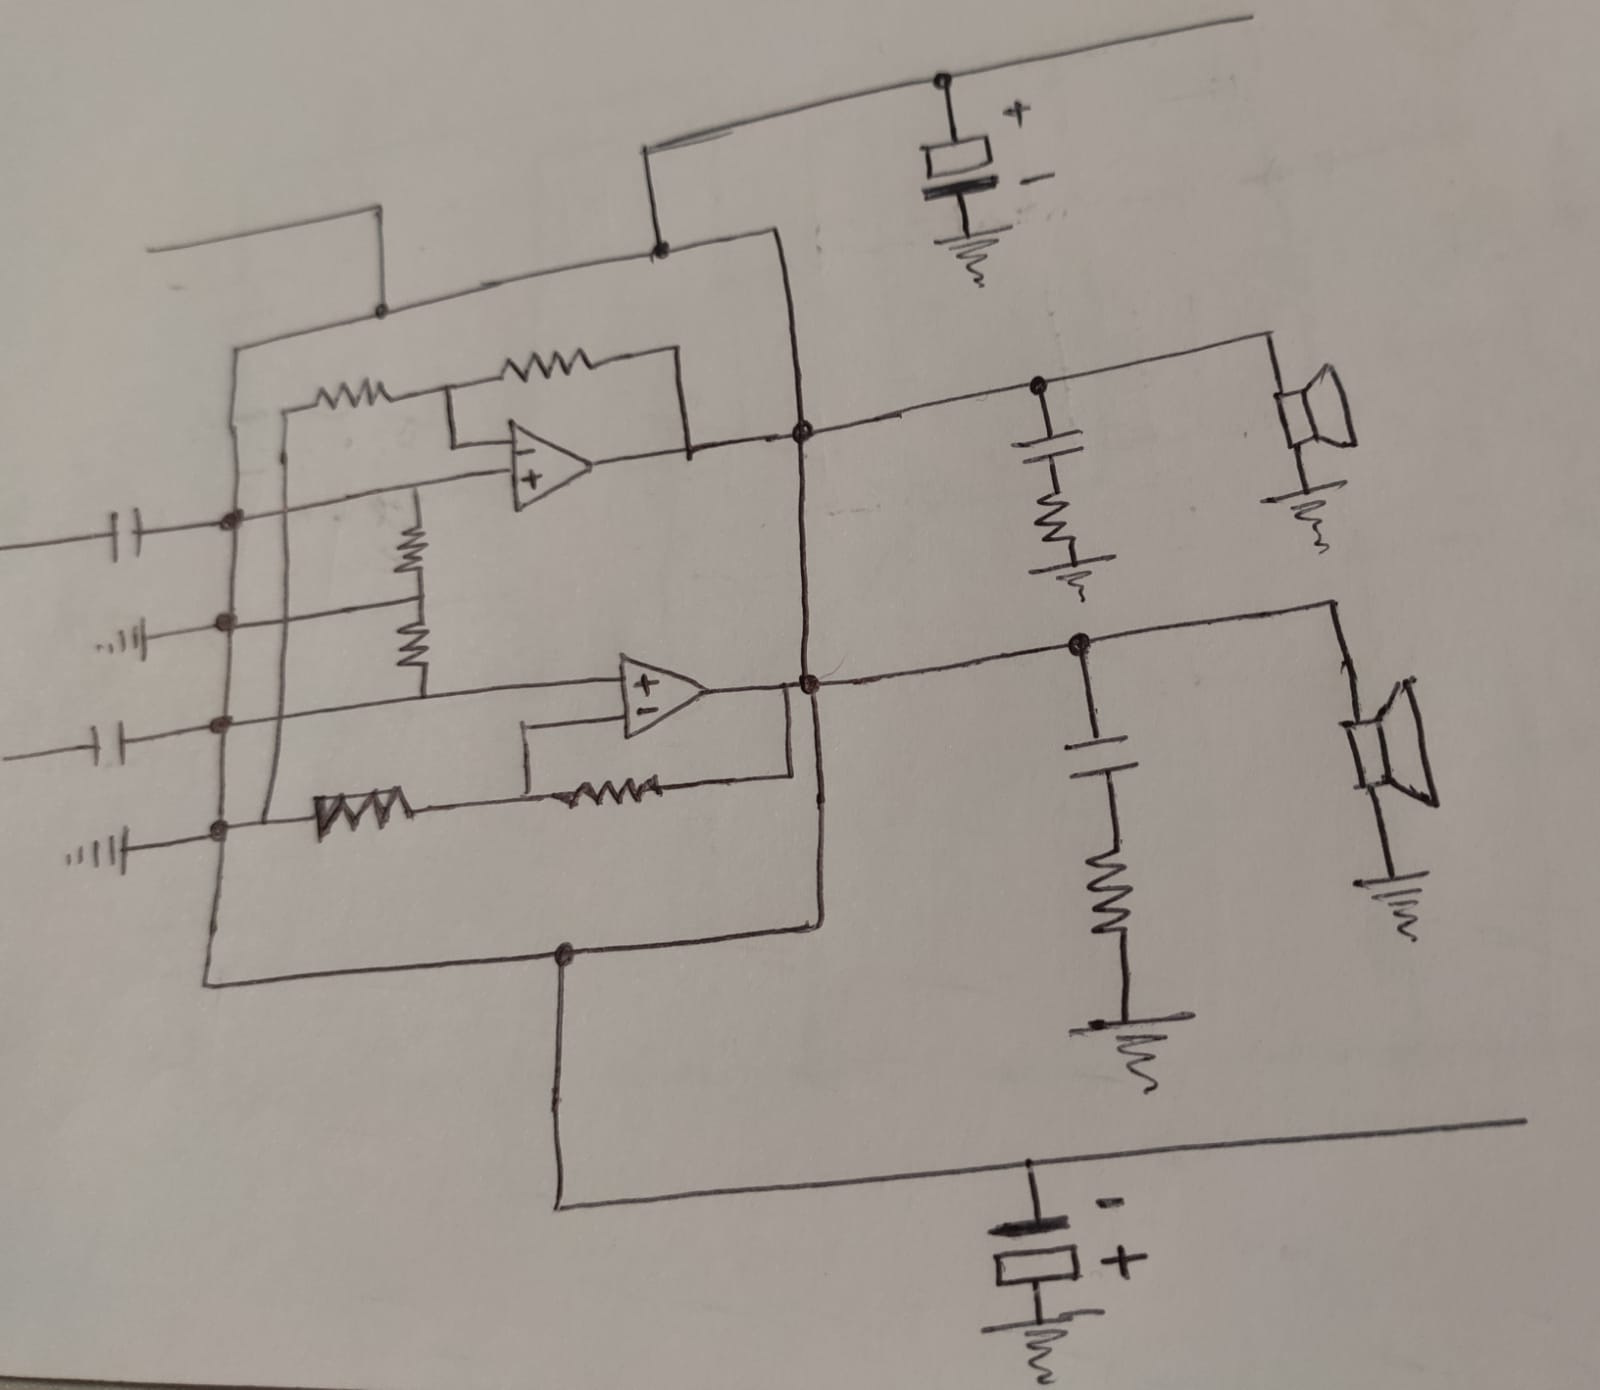capacitor.polarized: (976, 1185, 1152, 1296), (906, 94, 1059, 199)
capacitor.unpolarized: (1056, 728, 1146, 785), (1005, 422, 1097, 475), (78, 715, 147, 768), (99, 503, 152, 560)
gnd: (1067, 1006, 1200, 1102), (976, 1302, 1116, 1389), (927, 218, 1024, 301), (1346, 860, 1434, 949), (1261, 476, 1355, 554), (1020, 544, 1127, 607), (56, 817, 140, 881), (78, 607, 155, 669)
junction: (1015, 362, 1063, 412), (539, 937, 586, 972), (922, 65, 962, 107), (1057, 627, 1101, 662), (641, 234, 683, 269), (800, 904, 838, 943), (201, 707, 242, 741), (200, 813, 238, 847), (208, 607, 244, 641), (214, 505, 250, 537), (784, 416, 818, 447), (365, 294, 401, 322), (1318, 590, 1350, 622), (1012, 1149, 1046, 1178), (250, 807, 282, 836), (793, 671, 826, 699), (544, 1191, 573, 1221), (635, 139, 664, 167), (776, 759, 803, 787), (1253, 322, 1282, 350), (400, 477, 427, 505), (362, 197, 390, 223), (514, 783, 540, 811), (676, 439, 703, 465), (512, 715, 536, 740), (661, 337, 687, 360), (762, 219, 786, 242), (195, 974, 219, 996), (445, 435, 467, 460), (414, 685, 435, 709), (226, 339, 248, 360), (276, 611, 298, 632), (435, 378, 459, 399), (276, 403, 297, 426), (774, 676, 795, 699), (268, 710, 291, 730), (410, 588, 430, 608), (275, 503, 298, 521)
operational_amplifier: (499, 412, 601, 518), (612, 647, 714, 747)
resistor: (305, 782, 419, 841), (1083, 841, 1140, 944), (550, 768, 668, 809), (299, 375, 410, 419), (488, 341, 603, 382), (1022, 481, 1090, 549), (389, 613, 444, 675), (389, 511, 435, 581)
speaker: (1340, 676, 1446, 813), (1273, 362, 1362, 458)
terminal: (1506, 1110, 1537, 1140), (1237, 3, 1267, 26), (1, 537, 26, 558), (137, 241, 161, 261), (1, 749, 20, 767)
